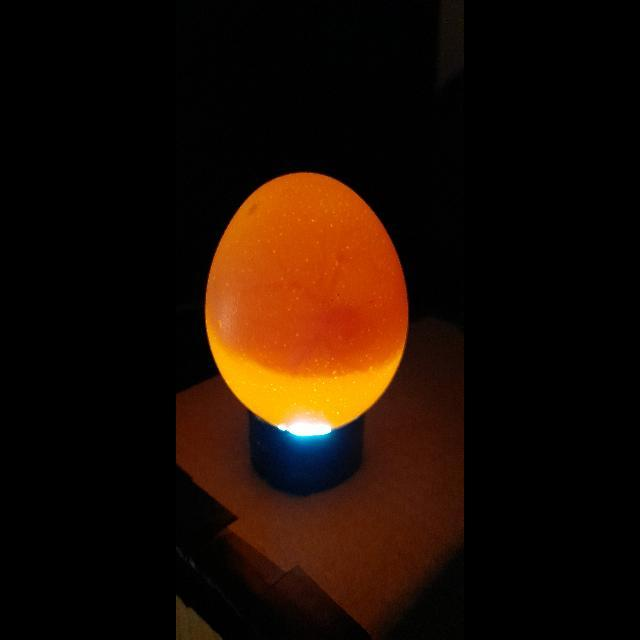Fertile: (206, 170, 407, 434)
